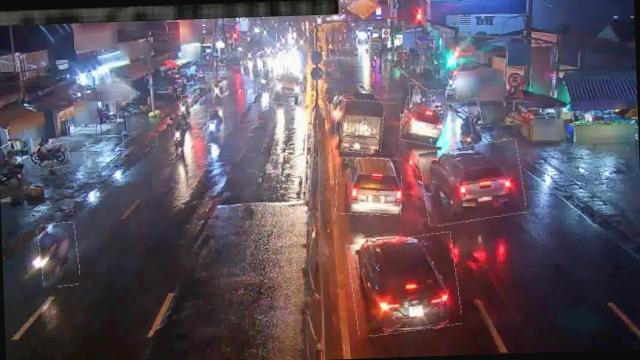Bike: (38, 223, 79, 287), (36, 144, 70, 170), (206, 108, 224, 145), (118, 102, 145, 123), (468, 98, 482, 131), (169, 127, 184, 153), (458, 115, 471, 145), (180, 95, 194, 122), (256, 68, 270, 92), (432, 90, 447, 112), (212, 80, 226, 103), (409, 84, 423, 104)
Car: (348, 233, 461, 334), (420, 140, 524, 224), (335, 157, 403, 217), (334, 98, 384, 154), (400, 98, 450, 148), (272, 70, 304, 106)
